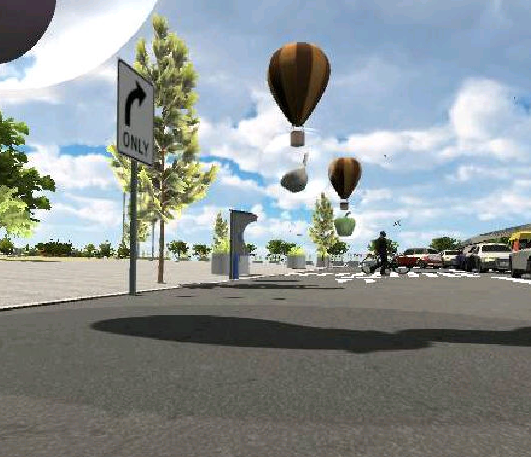arrow_right: (122, 82, 152, 130)
